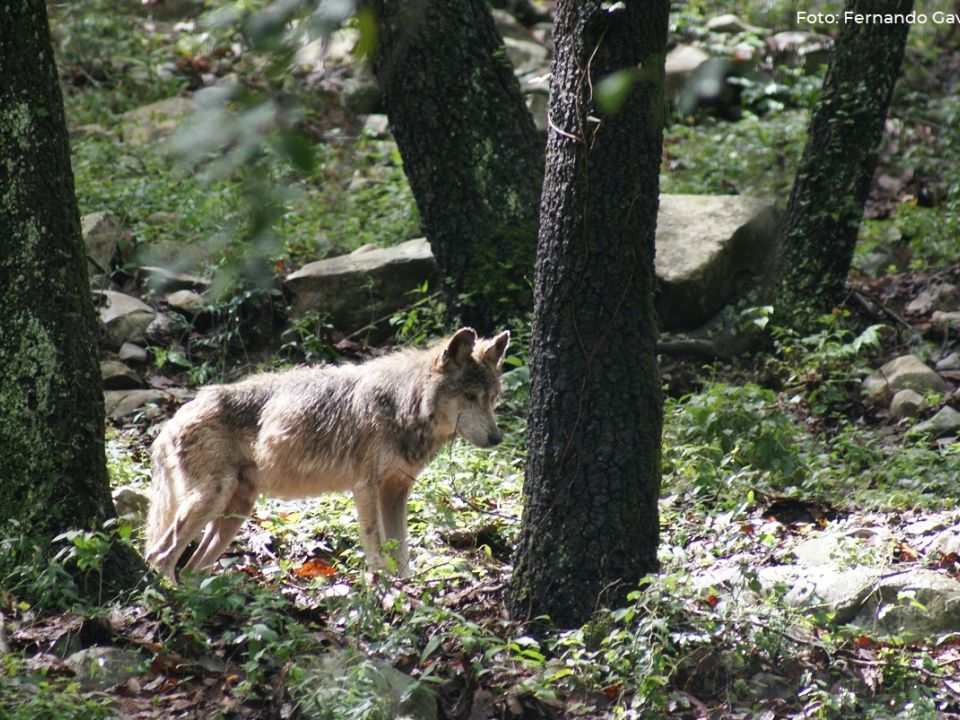Lobo: (129, 316, 524, 575)
